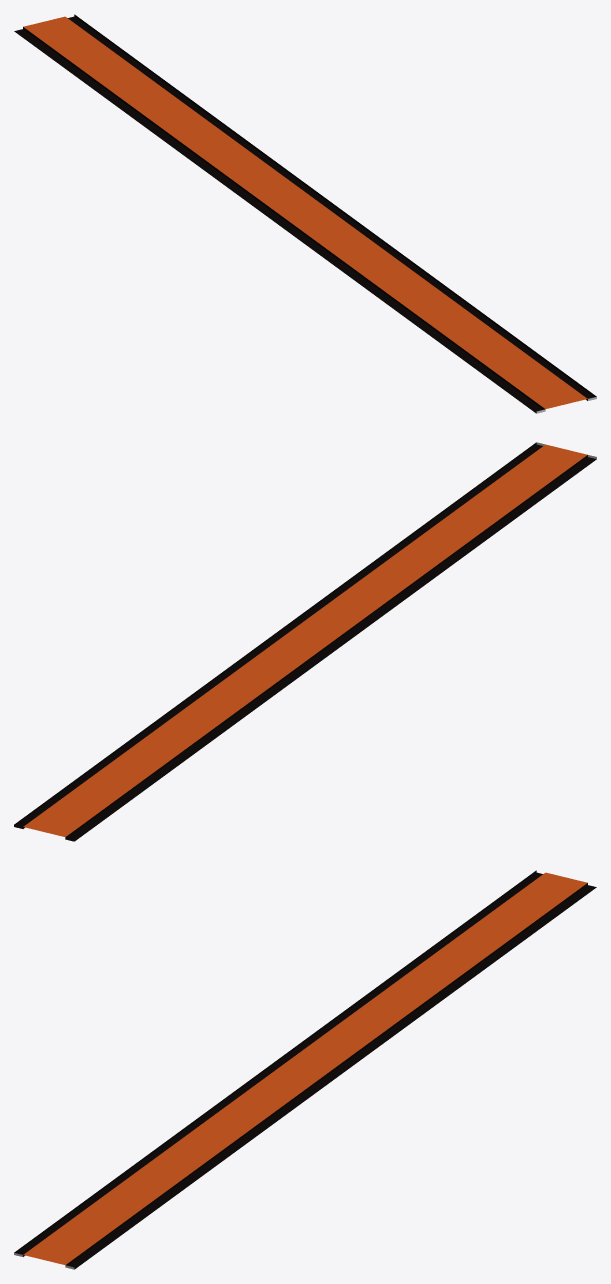
File: floor.fbx
3 renders of one model, top to bottom at view 1: azimuth 30°, elevation 25°; view 2: azimuth 150°, elevation 25°; view 3: azimuth 330°, elevation 25°, orthographic.
Visible parts, largest first — view 1: floor (2); view 2: floor (2); view 3: floor (2).
Part boxes in pixels (x1,y1,x2,y2): floor (2): (14, 14, 596, 413); floor (2): (14, 442, 596, 841); floor (2): (14, 870, 596, 1269).
Bounding box in the file's own units: 15.28 × 0.5398 × 229.
